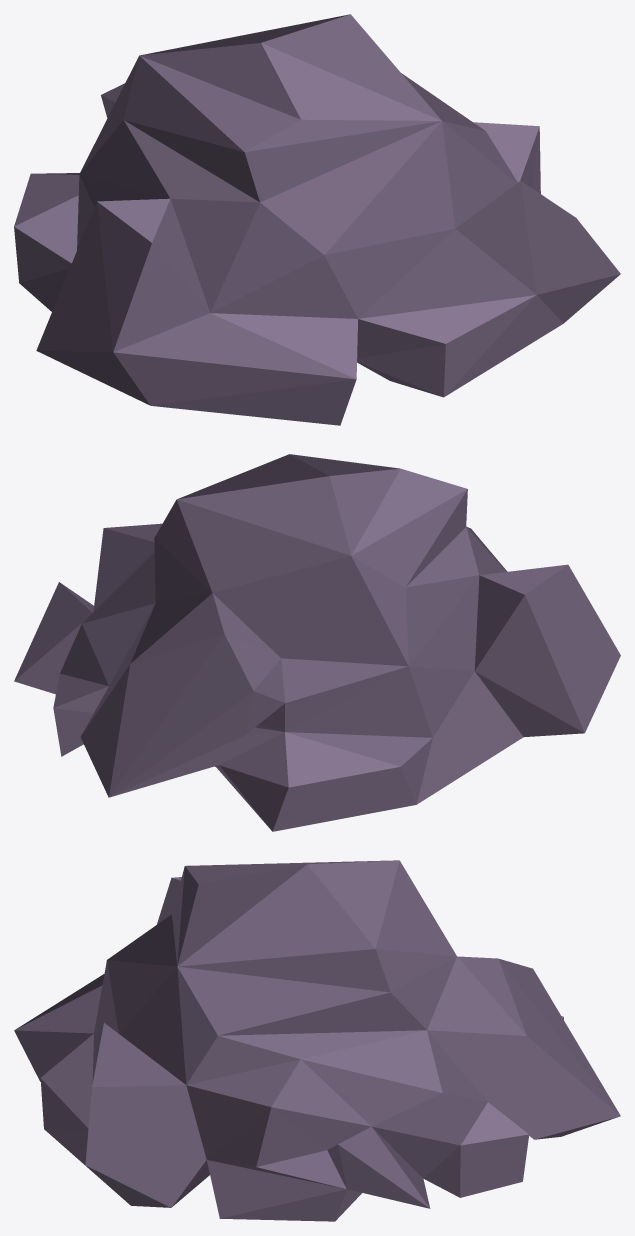
File: Rock3.fbx
The picture shows the model from 3 angles, top to bottom: view 1: azimuth 30°, elevation 25°; view 2: azimuth 150°, elevation 25°; view 3: azimuth 270°, elevation 25°; orthographic projection. The views are drawn at different scales.
Parts seen in each view (by area): view 1: Rock3; view 2: Rock3; view 3: Rock3.
Part boxes in pixels (x1=…): Rock3: x1=14, y1=14, x2=620, y2=425; Rock3: x1=14, y1=454, x2=620, y2=831; Rock3: x1=14, y1=860, x2=620, y2=1221.
Size of the model in its own units: 2.35 by 1.19 by 2.54.
